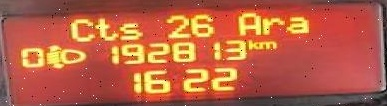0: (19, 46, 41, 67)
1: (125, 70, 142, 93), (106, 43, 118, 63), (209, 40, 219, 58)
2: (182, 66, 207, 92), (165, 12, 190, 37), (212, 63, 235, 90), (146, 40, 168, 62)
3: (223, 39, 243, 59)
6: (142, 68, 170, 94), (190, 12, 213, 36)
8: (170, 39, 194, 60)
9: (120, 42, 144, 63)
X: (235, 10, 262, 35), (67, 18, 94, 41), (94, 16, 117, 40), (118, 21, 141, 38), (260, 14, 281, 32), (286, 16, 307, 32), (257, 39, 274, 49), (245, 37, 259, 49)
